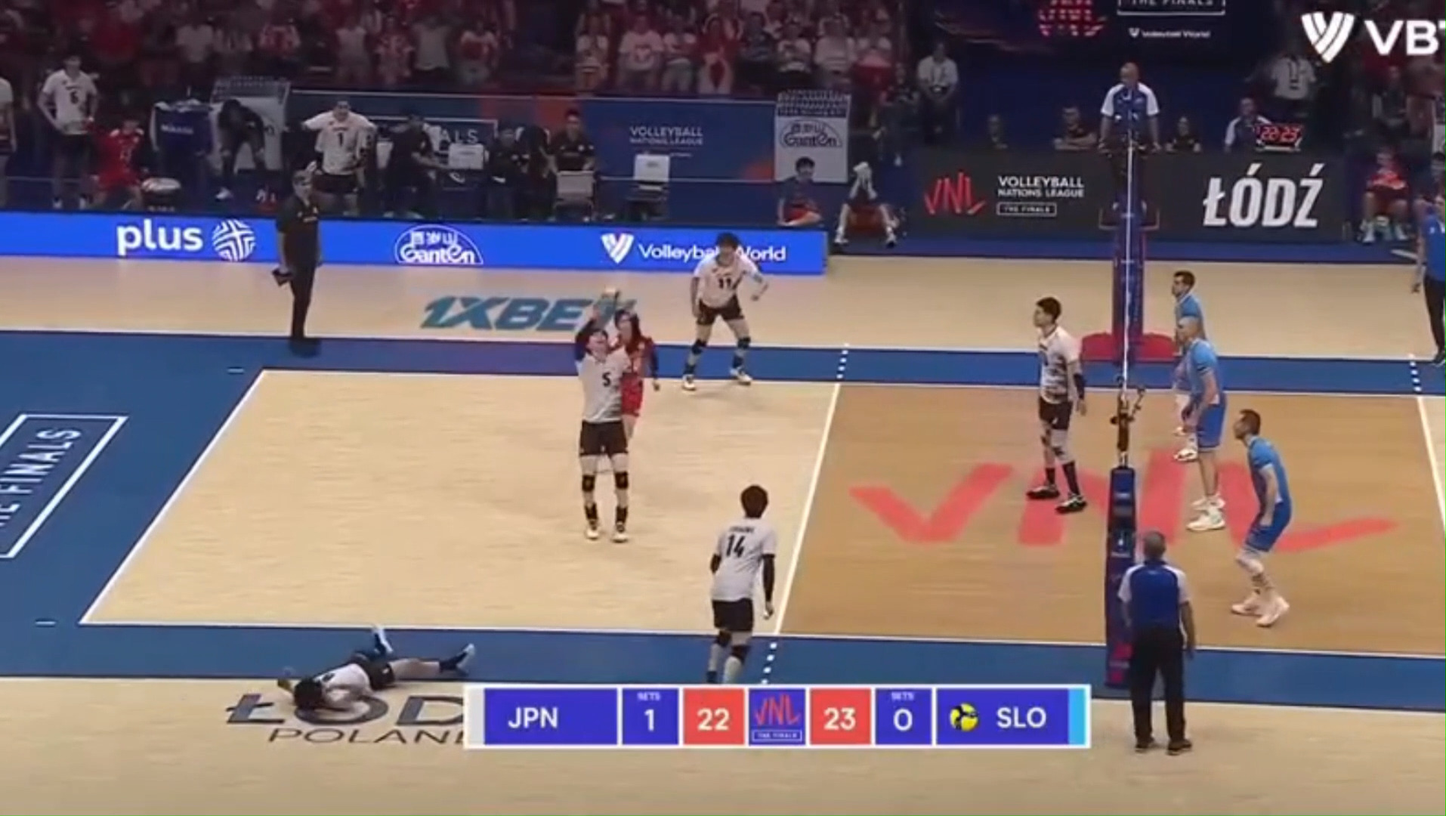ball: (603, 287, 619, 298)
player: (1231, 410, 1293, 627), (1177, 314, 1227, 531), (1172, 270, 1204, 336)
player 1: (277, 627, 474, 712), (706, 484, 778, 682), (573, 309, 632, 541), (681, 233, 767, 389), (1027, 297, 1087, 514), (611, 309, 660, 438)
referee: (1117, 530, 1195, 754), (1098, 62, 1159, 230), (273, 170, 321, 350), (1413, 195, 1445, 365)
